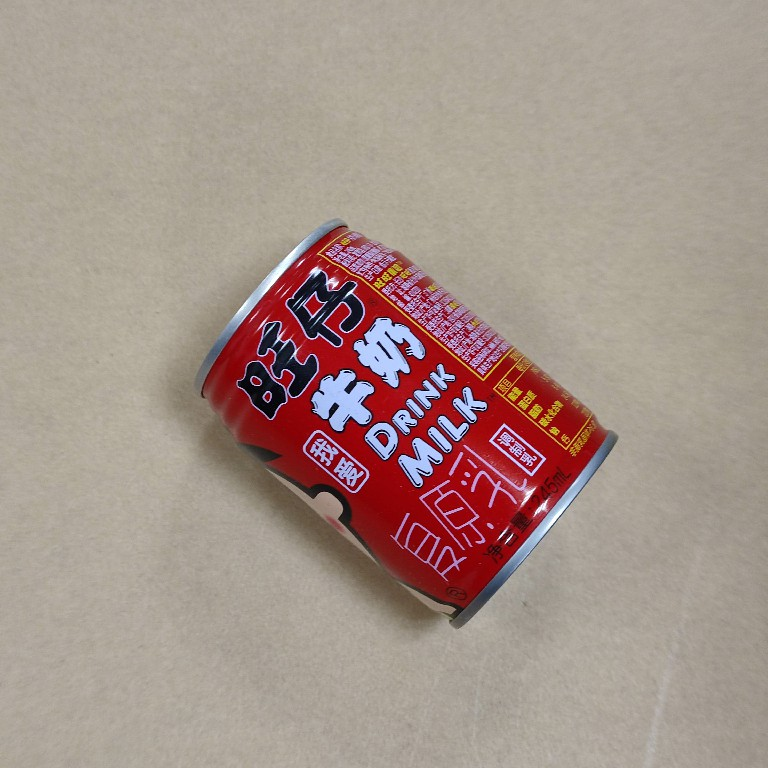can: (187, 216, 625, 633)
